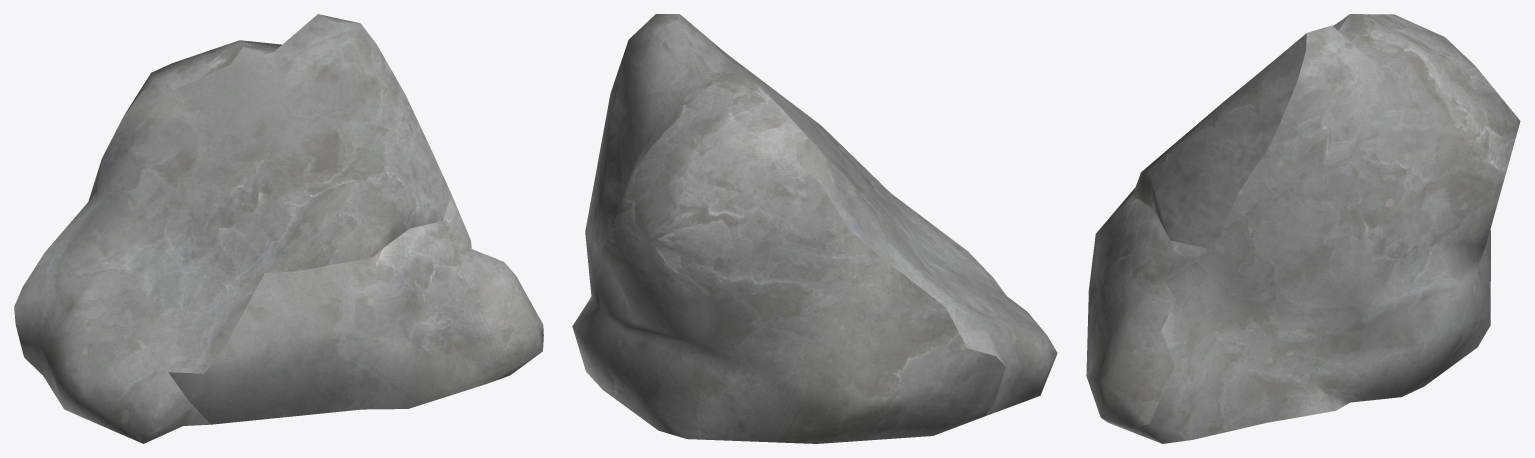
File: SM_Com_Roc_35AS.fbx
3 views of the same model, side by side, from view 1: azimuth 30°, elevation 25°; view 2: azimuth 150°, elevation 25°; view 3: azimuth 270°, elevation 25° (orthographic). The views are drawn at different scales.
Parts seen in each view (by area): view 1: SM_Com_Roc_35AS.mo; view 2: SM_Com_Roc_35AS.mo; view 3: SM_Com_Roc_35AS.mo.
Boxes of the visible parts, x1,y1,x2,y2 form: SM_Com_Roc_35AS.mo: (14, 14, 543, 443); SM_Com_Roc_35AS.mo: (572, 14, 1057, 443); SM_Com_Roc_35AS.mo: (1086, 14, 1520, 443).
Bounding box in the file's own units: 1.85 × 1.25 × 1.4.
